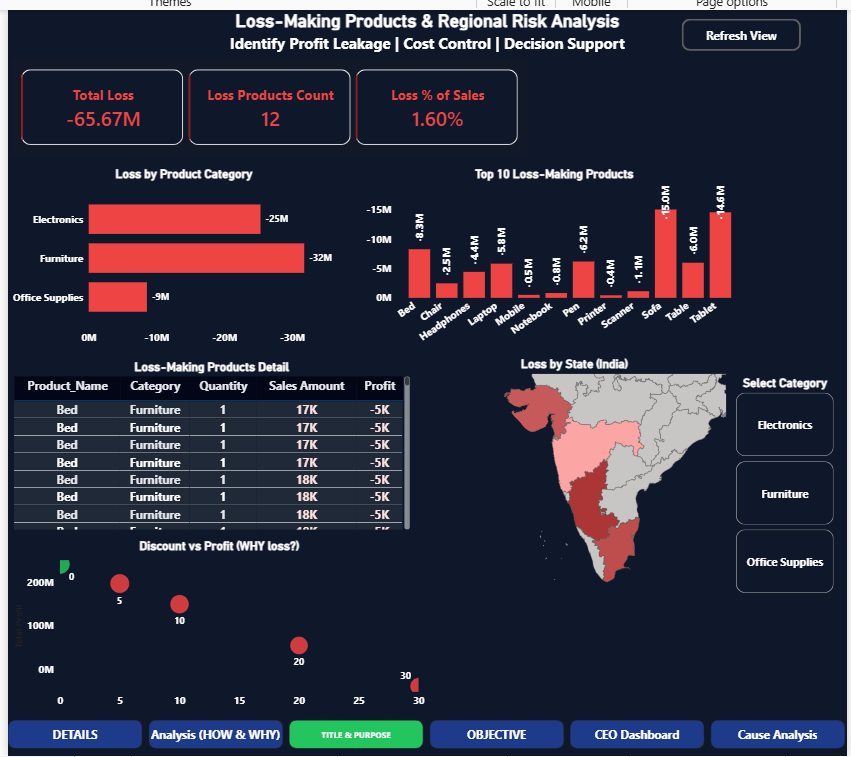

Layout of this report page (visuals, bound fields, positions):
{"tool":"powerbi","page":{"name":"TITLE & PURPOSE","canvas":[1350,1200],"ordinal":2},"visuals":[{"type":"textbox","title":"Loss-Making Products & Regional Risk Analysis","box":[0,0,1349.2,75.6],"z":0},{"type":"cardVisual","fields":{"Data":["Customer_Table.Total Loss","Customer_Table.Loss Products Count","Customer_Table.Loss % of Sales"]},"box":[3.7,79.3,835,156.7],"z":1000},{"type":"clusteredBarChart","title":"Loss by Product Category","fields":{"Category":["Product_Table.Category"],"Y":["Customer_Table.Total Loss"]},"box":[1.8,254.4,562.2,294.9],"z":2000},{"type":"tableEx","title":"Loss-Making Products Detail","fields":{"Values":["Product_Table.Product_Name","Product_Table.Category","Sales_Fact_Table.Quantity","Sales_Fact_Table.Sales_Amount","Sales_Fact_Table.Profit"]},"box":[4.7,563,647.5,277.5],"z":3000},{"type":"advancedSlicerVisual","title":"Select Category","fields":{"Values":["Product_Table.Category"]},"box":[1166.7,589.8,167.7,353.9],"z":5000},{"type":"actionButton","box":[1083.8,14.7,191.7,51.6],"z":6000},{"type":"pageNavigator","box":[0,1142.1,1349.2,46.2],"z":7000},{"type":"columnChart","title":"Top 10 Loss-Making Products","fields":{"Category":["Product_Table.Product_Name"],"Y":["Customer_Table.Total Loss"]},"box":[571.4,254.4,615.6,294.9],"z":8000},{"type":"shapeMap","title":"Loss by State (India)","fields":{"Category":["Customer_Table.State"],"Value":["Customer_Table.Total Loss"]},"box":[661.5,559,498.7,384.1],"z":9000},{"type":"scatterChart","title":"Discount vs Profit (WHY loss?)","fields":{"X":["Sales_Fact_Table.Discount_%"],"Y":["Sales_Fact_Table.Total Profit"],"Size":["Sales_Fact_Table.Total Sales"],"Series":["Sales_Fact_Table.Discount Band"]},"box":[4,850.5,671.6,281.5],"z":10000}]}

Visuals, with their boxes on the page's 1350x1200 design canvas (x1, y1, x2, y2). These are canvas units, not pixel positions in the 851x757 screenshot, which may show the page scaled, cropped or inside an application window:
"Loss-Making Products & Regional Risk Analysis" textbox: 0/0/1349/76
cardVisual - Customer_Table.Total Loss x Customer_Table.Loss Products Count: 4/79/839/236
"Loss by Product Category" clusteredBarChart: 2/254/564/549
"Loss-Making Products Detail" tableEx: 5/563/652/840
"Select Category" advancedSlicerVisual: 1167/590/1334/944
actionButton: 1084/15/1276/66
pageNavigator: 0/1142/1349/1188
"Top 10 Loss-Making Products" columnChart: 571/254/1187/549
"Loss by State (India)" shapeMap: 662/559/1160/943
"Discount vs Profit (WHY loss?)" scatterChart: 4/850/676/1132
